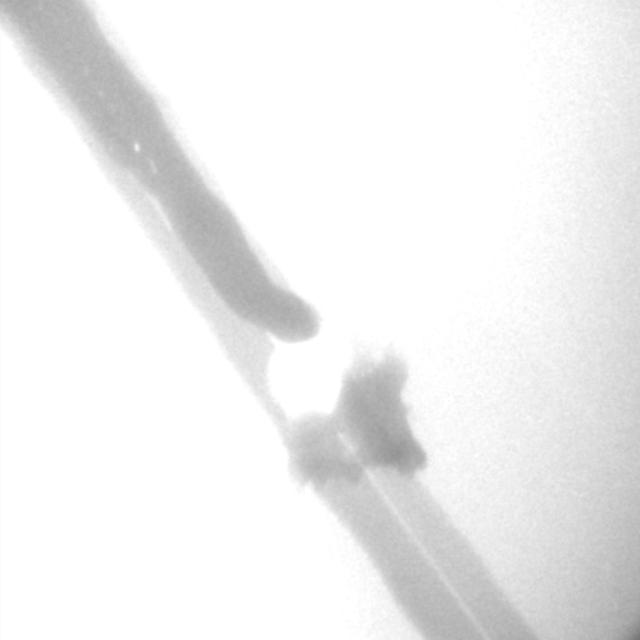air hole: (132, 141, 141, 152)
broken arc: (141, 185, 485, 637)
